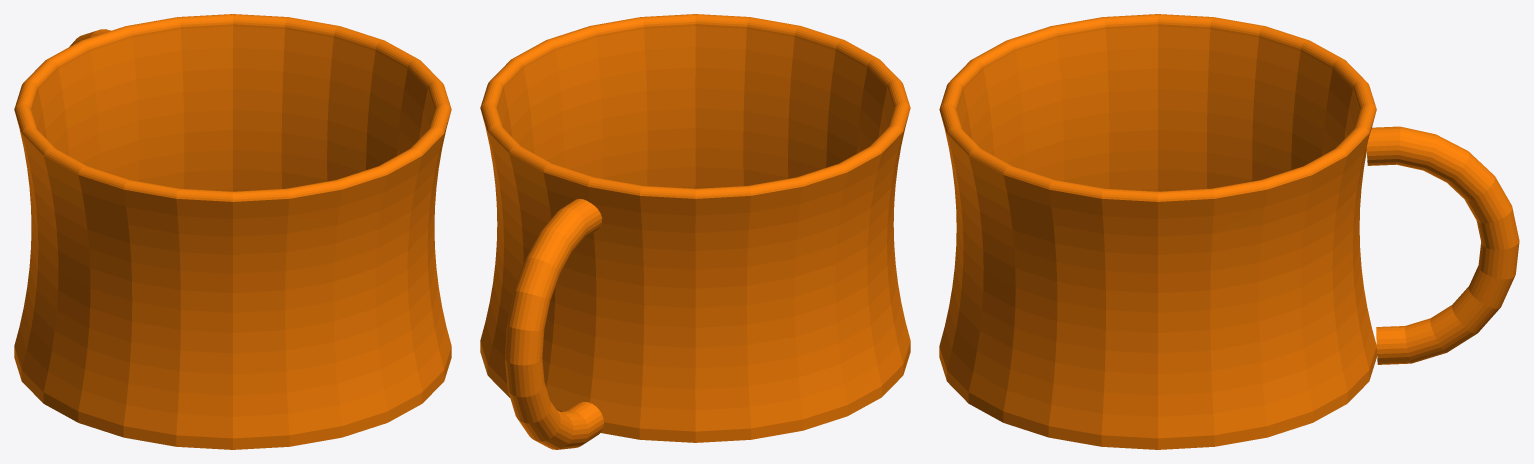
The picture shows the model from 3 angles, left to right: view 1: azimuth 30°, elevation 25°; view 2: azimuth 150°, elevation 25°; view 3: azimuth 270°, elevation 25°; orthographic projection.
Size of the model in its own units: 0.5601 by 0.3668 by 0.7428.
